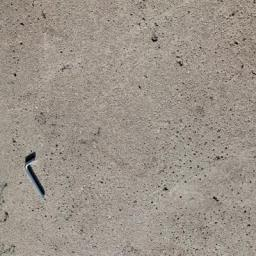FOD: (22, 151, 51, 204)
